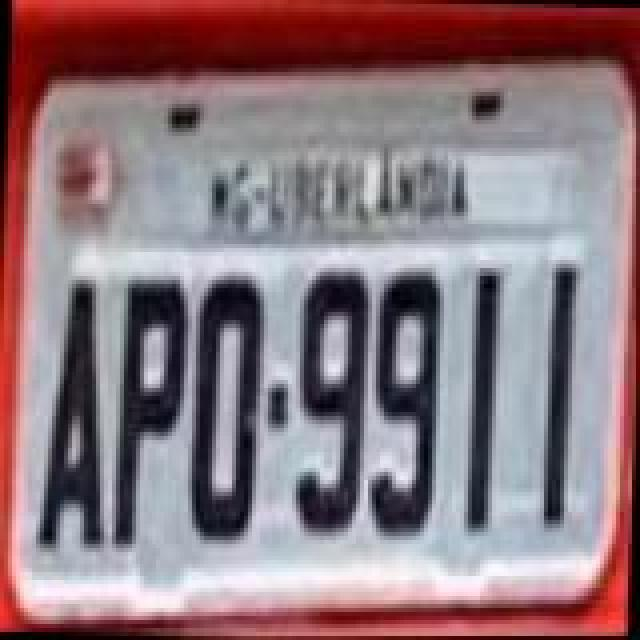1: (466, 268, 502, 540), (538, 260, 574, 532)
9: (292, 260, 372, 536), (366, 264, 442, 540)
A: (36, 276, 112, 556)
O: (186, 272, 266, 548)
P: (112, 272, 188, 548)
